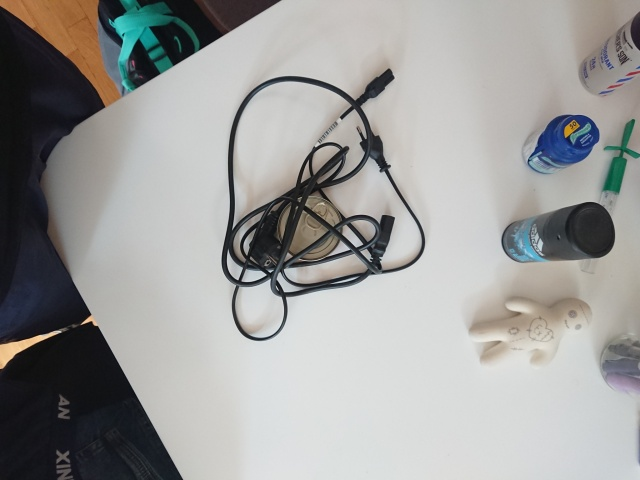Gavrilovic Pork Liver Pate 100g: (274, 193, 345, 263)
